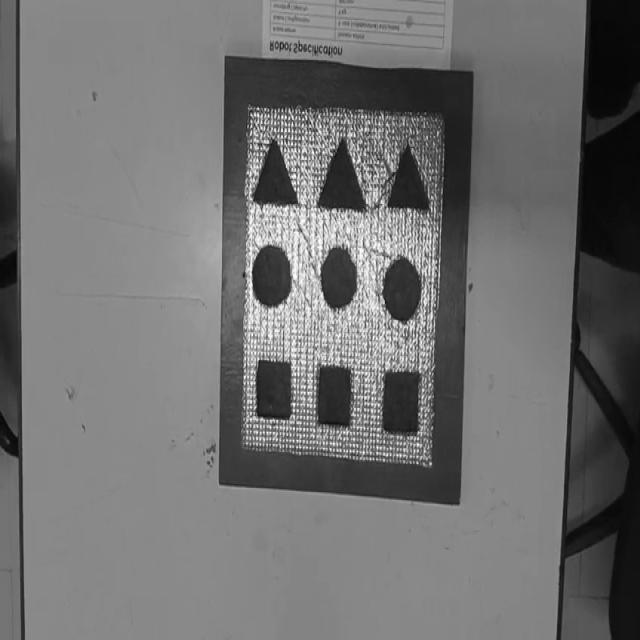mtcircle: (382, 255, 422, 322), (252, 243, 291, 308), (320, 246, 358, 310)
mtcube: (382, 368, 421, 436), (255, 358, 292, 420), (317, 364, 352, 428)
mttriangle: (317, 137, 366, 213), (252, 137, 298, 208), (387, 140, 429, 214)
wb: (240, 102, 444, 468)
